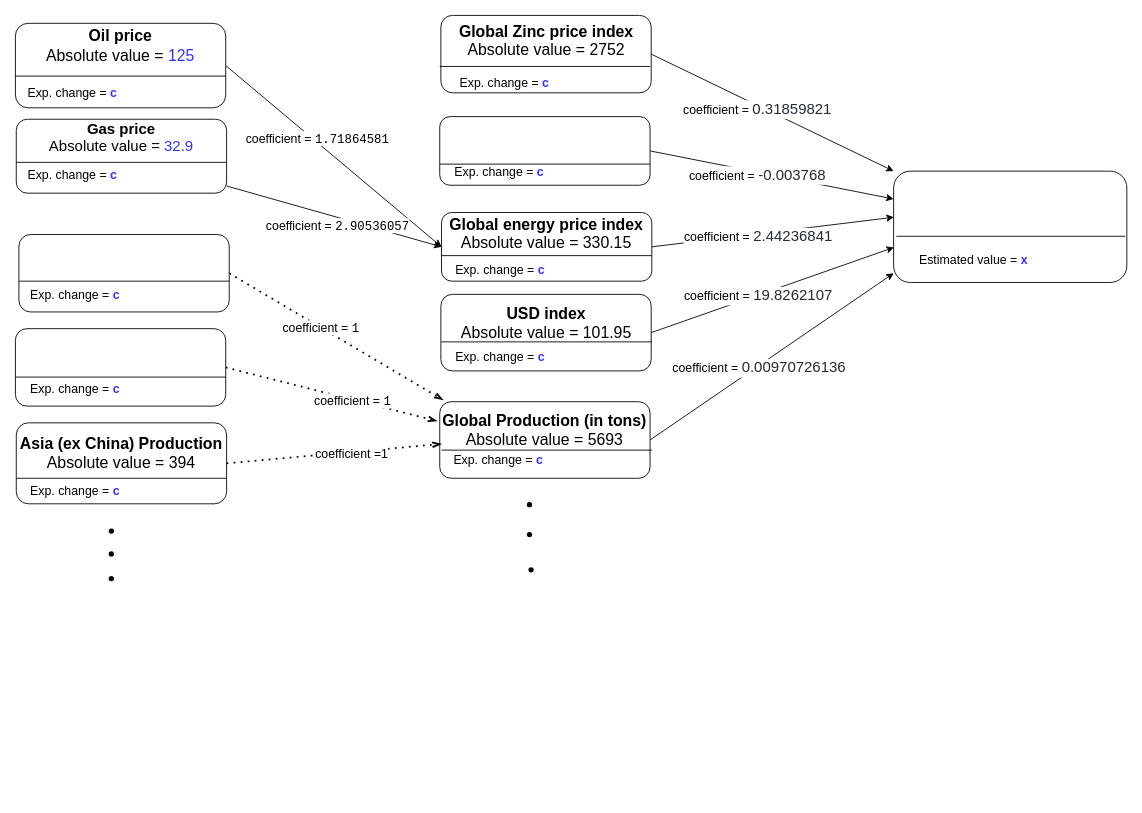
Some shapes in this 1142 by 813 pixel diagram are drawn without their labels. Each missing label, with the box of its shape:
Africa Production Absolute value = 144: (15, 328, 226, 406)
Aluminium price Absolute value = 2412: (893, 170, 1127, 282)
Chinese Production Absolute value = 3475: (18, 234, 229, 312)
Global Nickel price index Absolute value = 22950: (439, 116, 650, 185)
